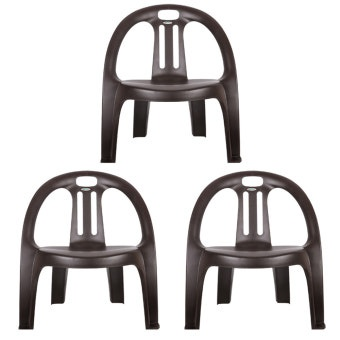plastic: (102, 3, 242, 163)
